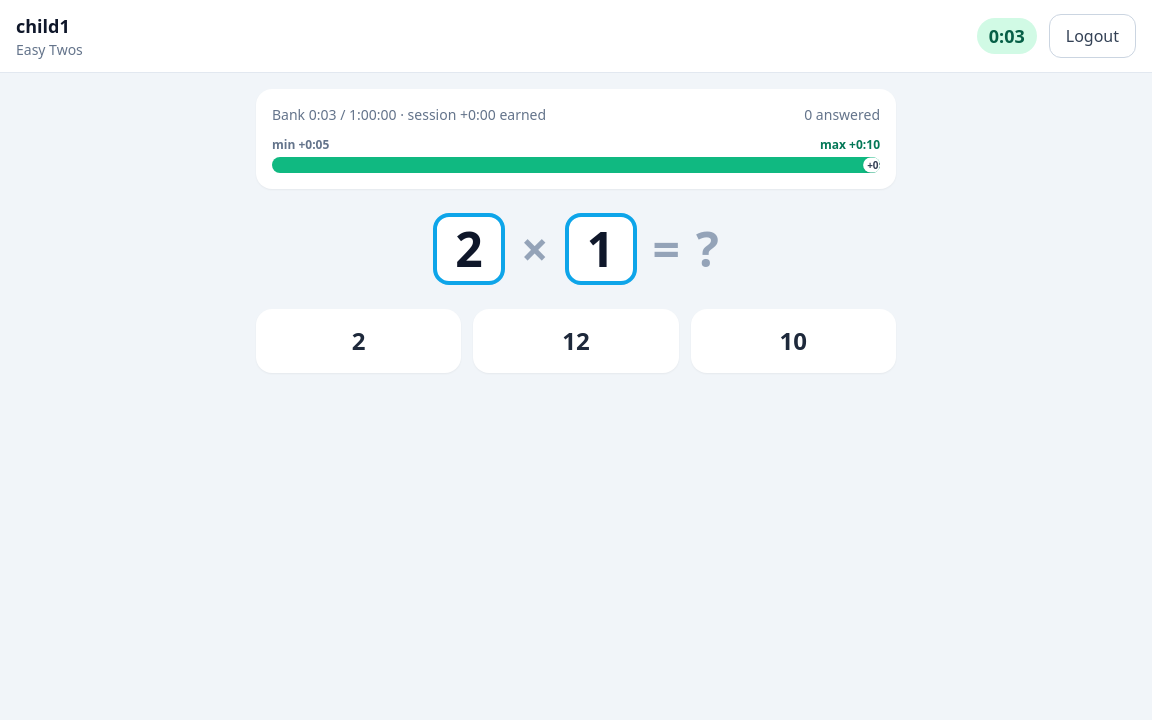
it: T22 — play HUD bank line › case 3: a wrong answer reduces the bank but never below '0:00 / <max>'
Check: the element with test id "question" is shown, box [433, 213, 719, 285]
Check: the element with test id "answers" is shown, box [256, 309, 896, 373]
Click the button with test id "^answer-" at (576, 341), box [473, 309, 679, 373]
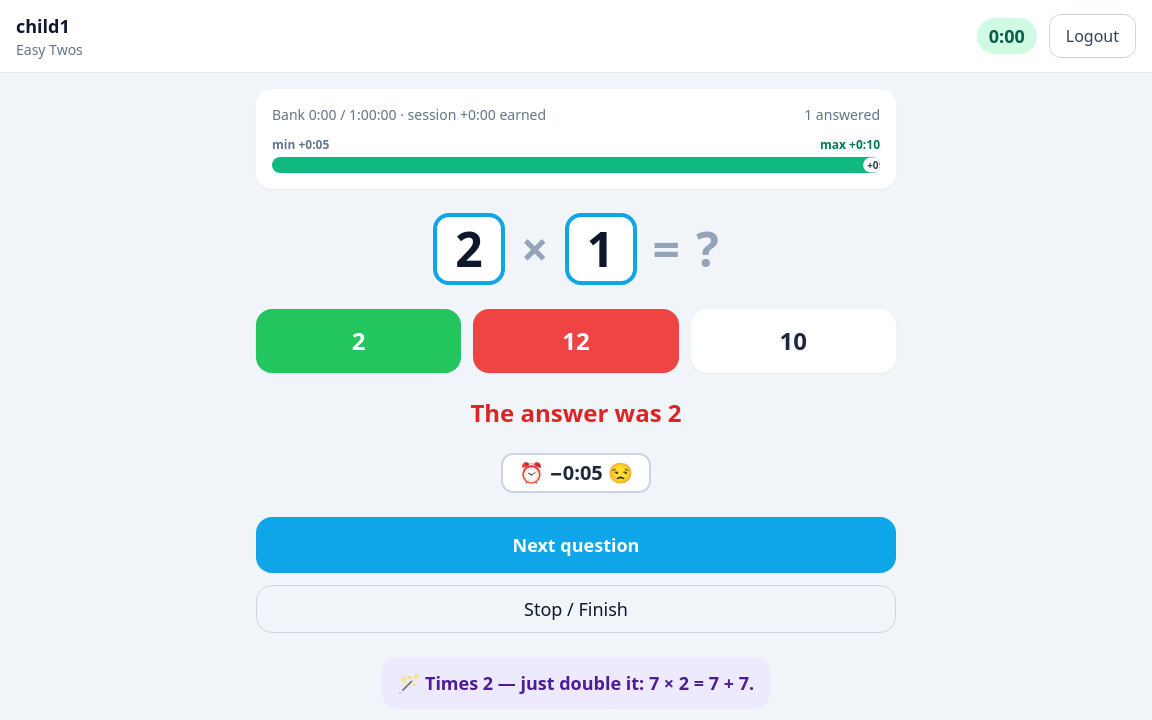
Check: the text with test id "bank-max" reads "/ 1:00:00", box [336, 105, 396, 124]
Check: the text "The answer was 2" is shown, box [470, 396, 682, 429]
Check: the text with test id "bank" reads "Bank 0:00", box [272, 105, 336, 124]
